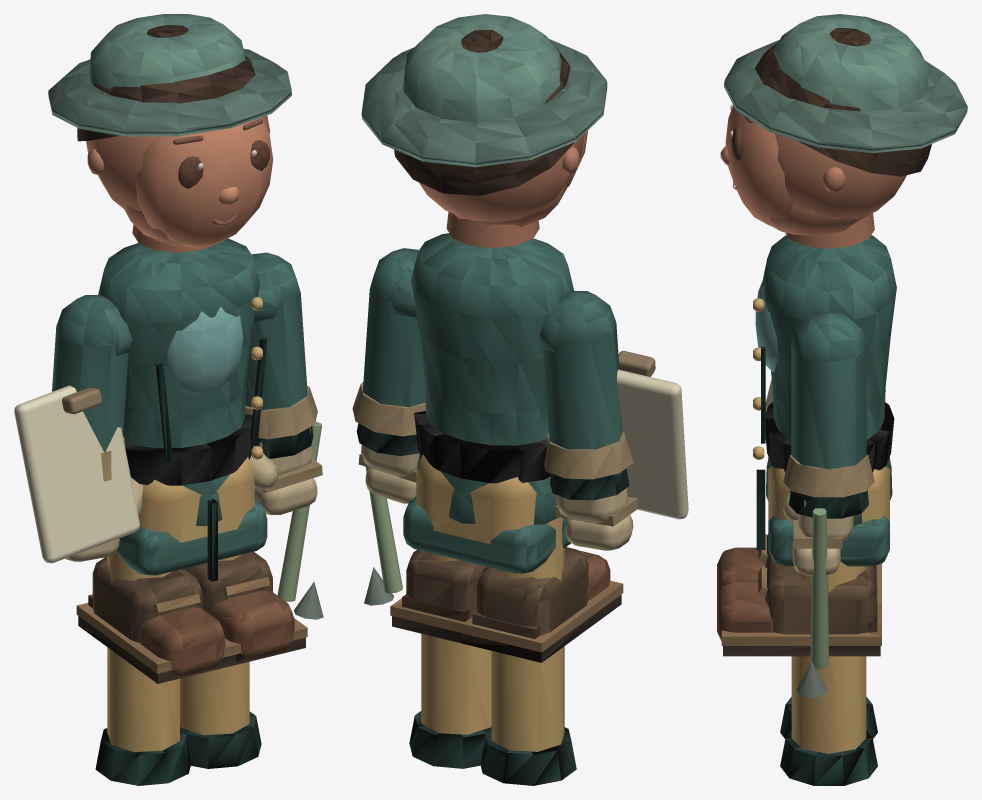
The model's file is park-yuna.m1.glb.
The picture shows the model from 3 angles, left to right: view 1: azimuth 30°, elevation 25°; view 2: azimuth 150°, elevation 25°; view 3: azimuth 270°, elevation 25°; orthographic projection.
Visible parts, largest first — view 1: coat, legs, figureDetail, hat, fieldClipboard, armRightMesh, armLeftMesh, trousers, handRightMesh, soilProbe, handLeftMesh, clipboardClip (+2 smaller); view 2: coat, legs, hat, armLeftMesh, figureDetail, armRightMesh, fieldClipboard, handLeftMesh, trousers, handRightMesh, neck, soilProbe (+2 smaller); view 3: legs, hat, coat, figureDetail, armRightMesh, handRightMesh, trousers, soilProbe, neck, soilProbeTip.
Boxes of the visible parts, x1=… form: coat: x1=98, y1=238, x2=267, y2=575; legs: x1=76, y1=551, x2=307, y2=785; figureDetail: x1=77, y1=25, x2=273, y2=247; hat: x1=48, y1=14, x2=291, y2=136; fieldClipboard: x1=14, y1=385, x2=139, y2=563; armRightMesh: x1=245, y1=252, x2=313, y2=458; armLeftMesh: x1=52, y1=295, x2=132, y2=452; trousers: x1=138, y1=457, x2=254, y2=581; handRightMesh: x1=245, y1=385, x2=322, y2=514; soilProbe: x1=277, y1=421, x2=321, y2=601; handLeftMesh: x1=65, y1=436, x2=143, y2=561; clipboardClip: x1=62, y1=387, x2=101, y2=414; coat: x1=403, y1=233, x2=573, y2=573; legs: x1=390, y1=477, x2=623, y2=785; hat: x1=361, y1=14, x2=607, y2=167; armLeftMesh: x1=539, y1=291, x2=629, y2=500; figureDetail: x1=394, y1=30, x2=587, y2=226; armRightMesh: x1=356, y1=248, x2=425, y2=456; fieldClipboard: x1=617, y1=369, x2=688, y2=519; handLeftMesh: x1=544, y1=431, x2=638, y2=550; trousers: x1=416, y1=454, x2=536, y2=544; handRightMesh: x1=352, y1=382, x2=425, y2=503; neck: x1=446, y1=211, x2=539, y2=248; soilProbe: x1=365, y1=467, x2=402, y2=593; legs: x1=717, y1=534, x2=881, y2=785; hat: x1=724, y1=14, x2=967, y2=153; coat: x1=753, y1=235, x2=896, y2=566; figureDetail: x1=720, y1=28, x2=931, y2=235; armRightMesh: x1=789, y1=312, x2=868, y2=518; handRightMesh: x1=783, y1=454, x2=874, y2=575; trousers: x1=756, y1=456, x2=889, y2=549; soilProbe: x1=810, y1=508, x2=828, y2=669; neck: x1=785, y1=213, x2=874, y2=248; soilProbeTip: x1=796, y1=662, x2=827, y2=698.
Bounding box in the file's own units: 0.922 × 2.08 × 0.6449.
